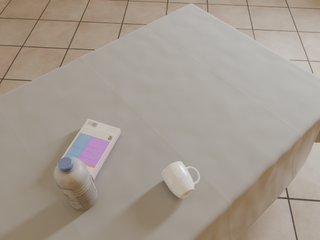book: (61, 119, 121, 181)
bottle: (54, 157, 98, 210)
cup: (161, 162, 200, 199)
